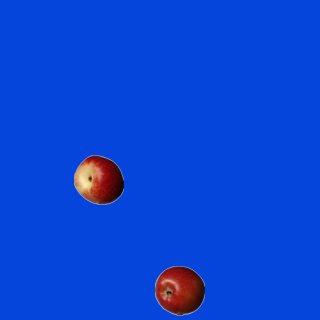Apple Braeburn: (154, 265, 204, 315)
Nectarine: (73, 154, 123, 204)
